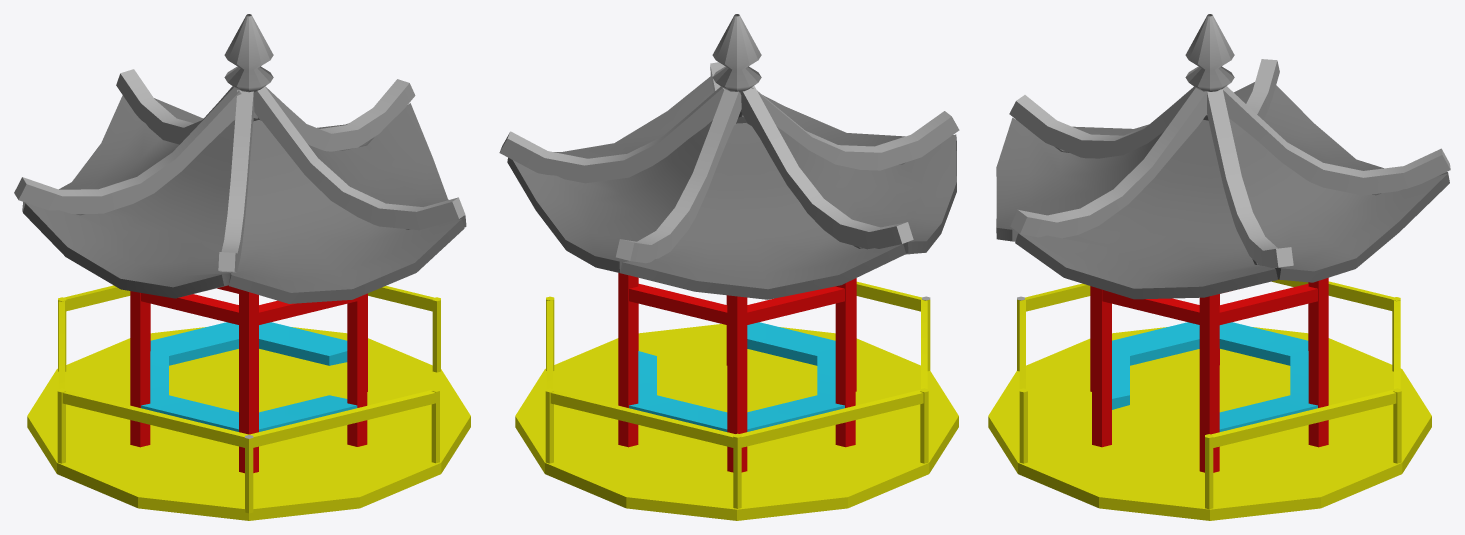
The model's file is Garden_home.fbx.
3 views of the same model, side by side, from view 1: azimuth 30°, elevation 25°; view 2: azimuth 150°, elevation 25°; view 3: azimuth 270°, elevation 25° (orthographic).
Parts seen in each view (by area): view 1: Garden_home; view 2: Garden_home; view 3: Garden_home.
Boxes of the visible parts, <box> form: Garden_home: <box>14,14,470,520</box>; Garden_home: <box>499,14,959,520</box>; Garden_home: <box>988,14,1450,520</box>.
Size of the model in its own units: 85.36 by 86.28 by 84.59.
